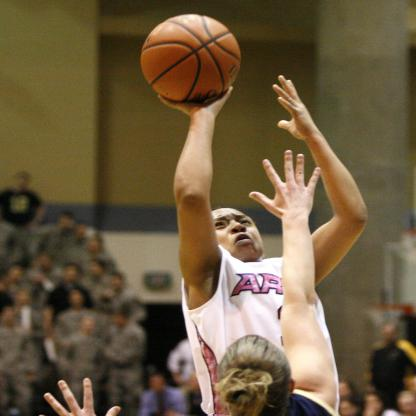Ball: (140, 13, 242, 105)
